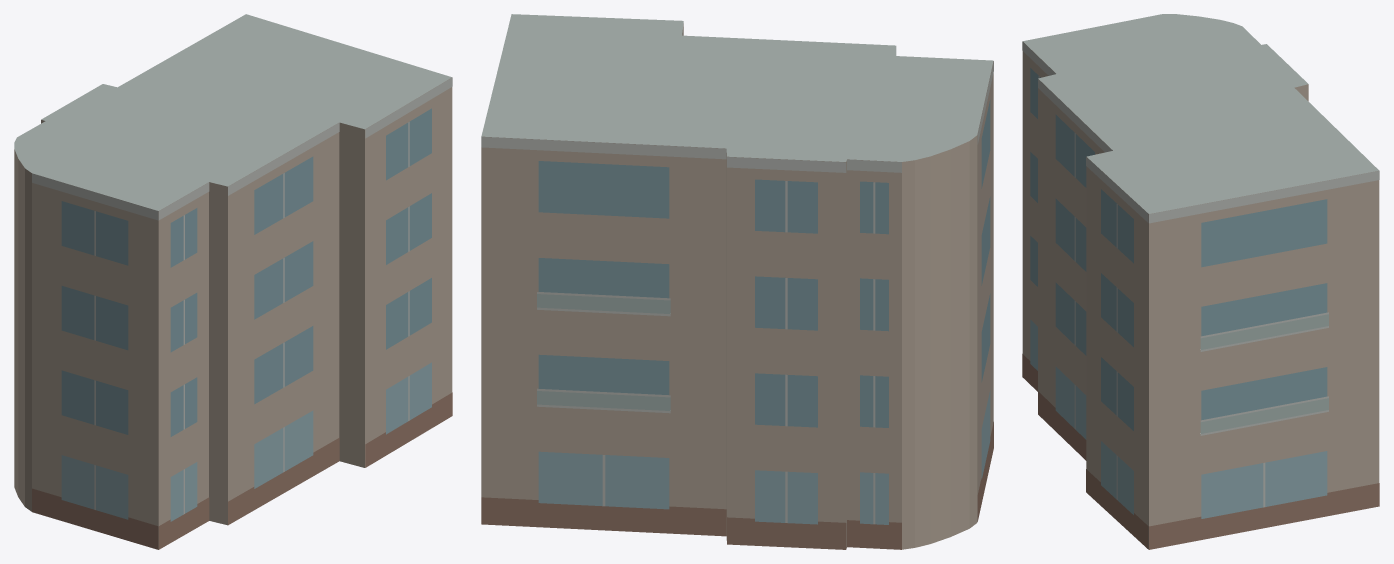
Rendered from survey-upis-32715514.glb.
3 renders of one model, left to right at view 1: azimuth 30°, elevation 25°; view 2: azimuth 150°, elevation 25°; view 3: azimuth 270°, elevation 25°, orthographic. The views are drawn at different scales.
Visible parts, largest first — view 1: survey-upis-32715514.tmp; view 2: survey-upis-32715514.tmp; view 3: survey-upis-32715514.tmp.
Boxes of the visible parts, x1,y1,x2,y2 form: survey-upis-32715514.tmp: (14, 14, 452, 549); survey-upis-32715514.tmp: (481, 14, 993, 549); survey-upis-32715514.tmp: (1022, 14, 1379, 549).
Bounding box in the file's own units: 11.13 × 8.7 × 8.39.
